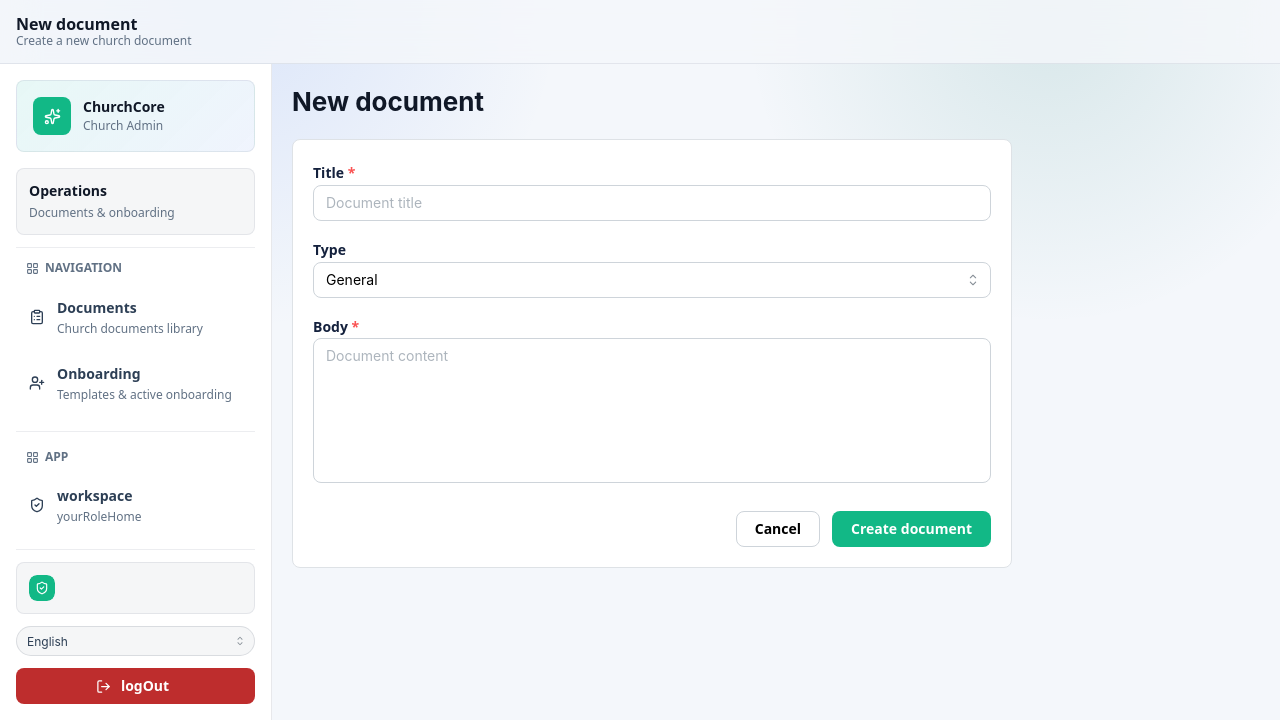
Scenario: OperationsDocumentFormClient — create mode › shows server error alert when action returns ok: false
This screenshot has width=1280, height=720.
Type "Council Notes" into the field labelled "Title *" at coordinates (652, 203), box left=313, top=185, right=991, bottom=221
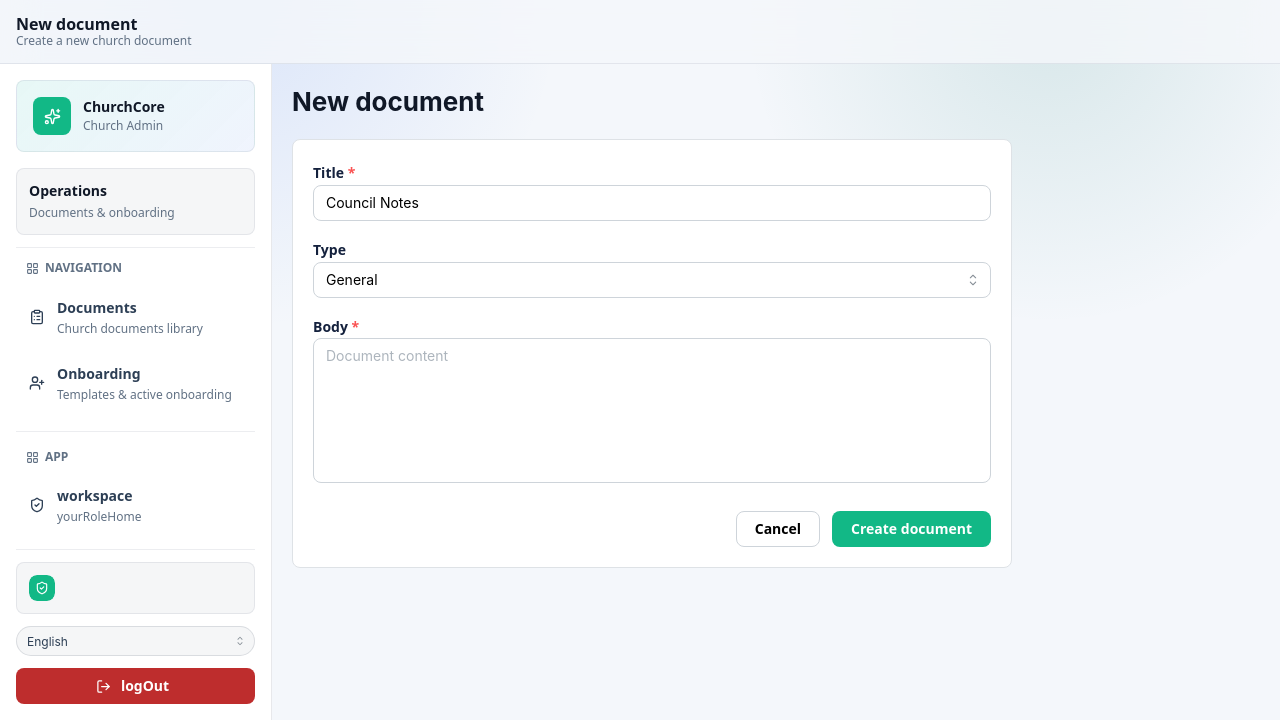
Type "Confidential content." into the text box labelled "Body *" at coordinates (652, 411), box left=313, top=338, right=991, bottom=484
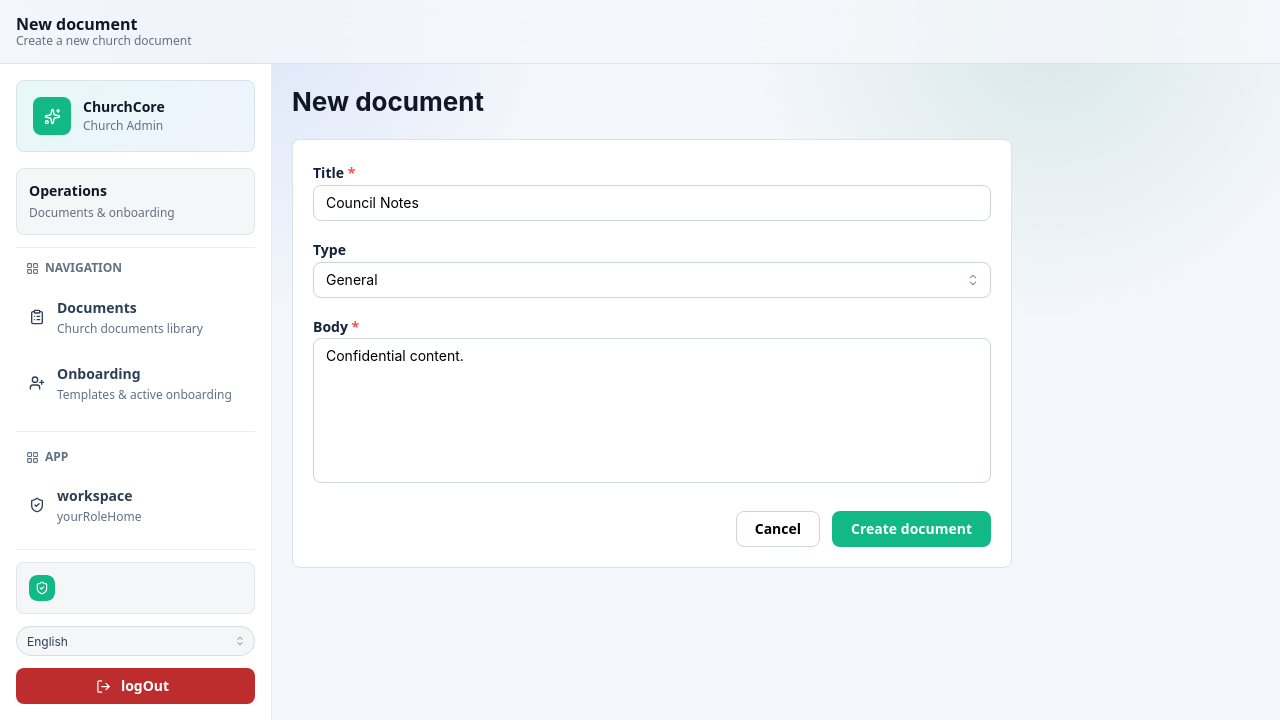
Click the button "Create document" at coordinates (912, 530), box left=832, top=512, right=991, bottom=548
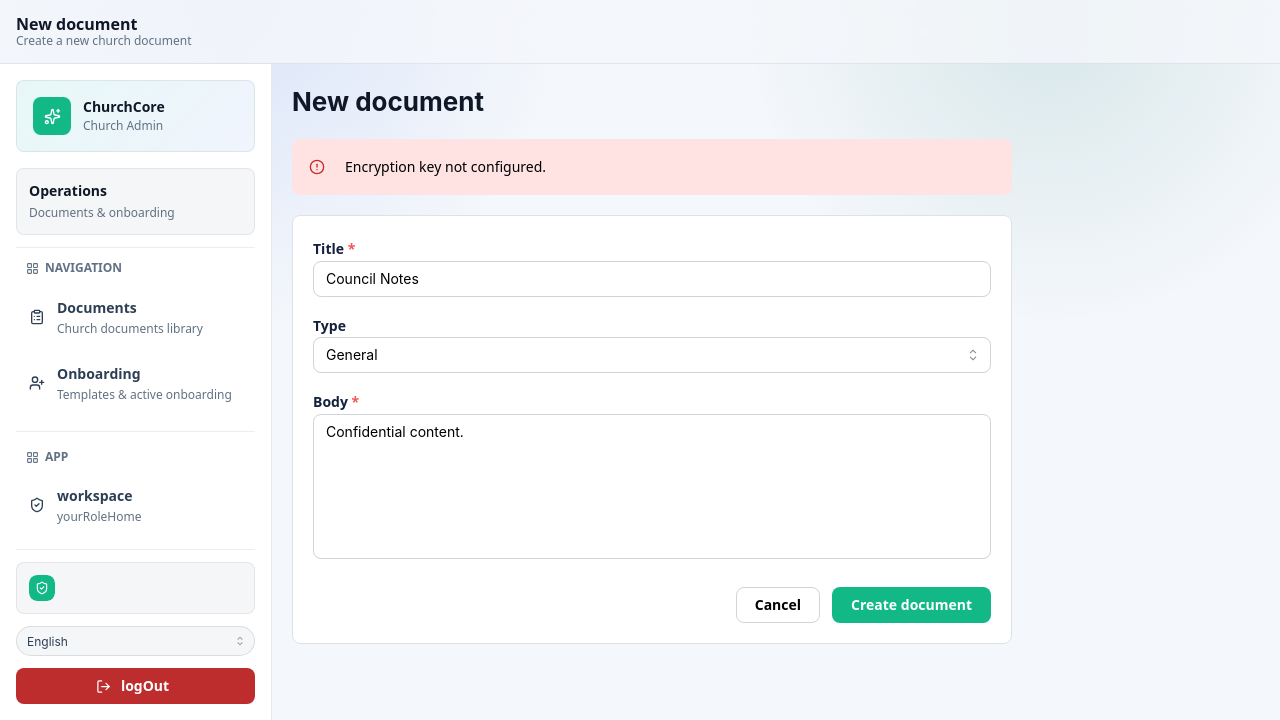
Result: the text "Encryption key not configured." is shown at left=345, top=157, right=546, bottom=176
